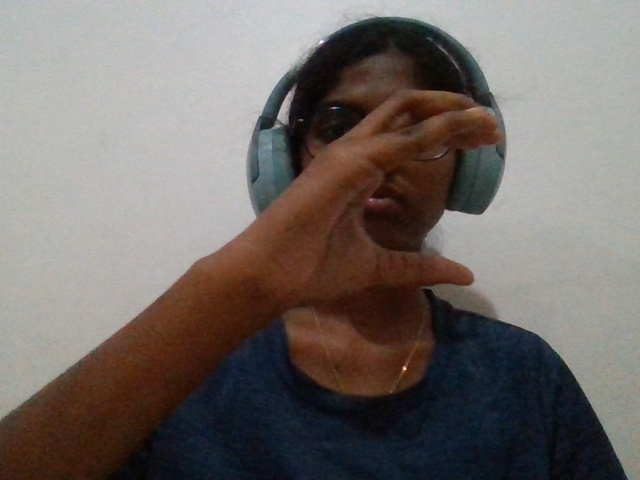C: (161, 66, 624, 398)
